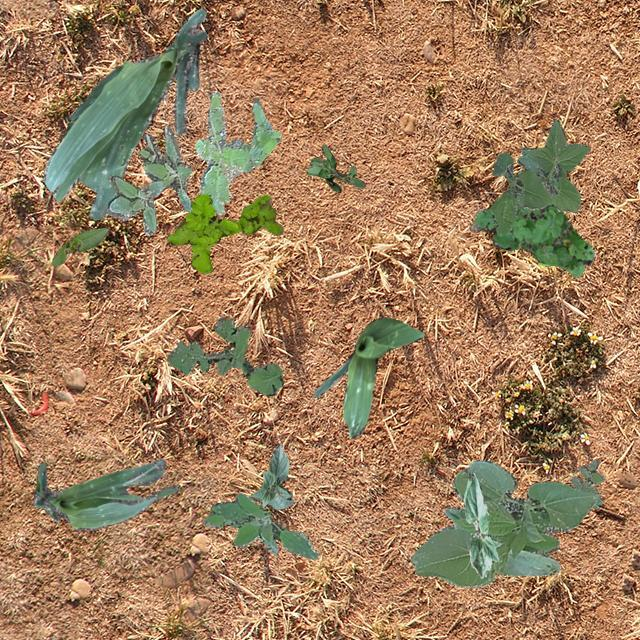crop: (42, 8, 206, 218), (411, 460, 598, 586), (312, 316, 424, 436), (32, 458, 178, 528), (462, 471, 498, 576), (250, 442, 292, 508), (49, 227, 108, 266)
weed: (490, 118, 590, 235), (194, 90, 280, 214), (165, 316, 282, 394), (106, 126, 190, 234), (166, 194, 282, 272), (470, 202, 592, 276), (203, 492, 317, 558), (306, 144, 364, 192), (570, 458, 604, 508)
